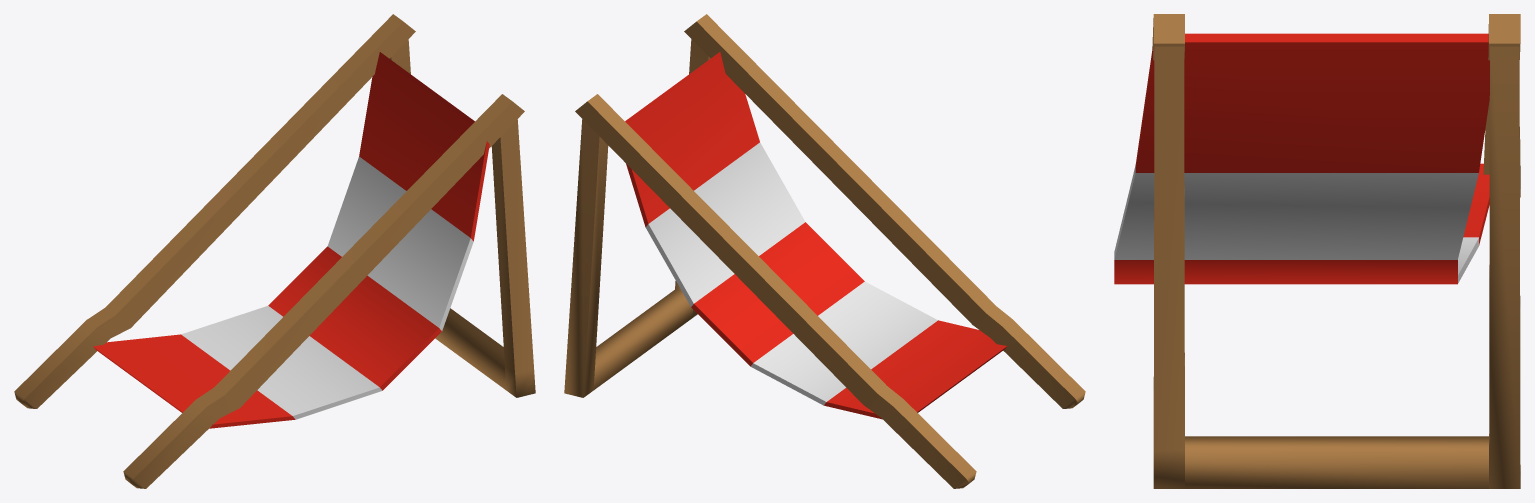
Rendered from SunBed.fbx.
The picture shows the model from 3 angles, left to right: view 1: azimuth 30°, elevation 25°; view 2: azimuth 150°, elevation 25°; view 3: azimuth 270°, elevation 25°; orthographic projection. The views are drawn at different scales.
Visible parts, largest first — view 1: Sunbed; view 2: Sunbed; view 3: Sunbed.
Boxes of the visible parts, x1,y1,x2,y2 form: Sunbed: (14,14,535,488); Sunbed: (564,14,1085,488); Sunbed: (1114,14,1520,488).
Bounding box in the file's own units: 503 × 356 × 286.
